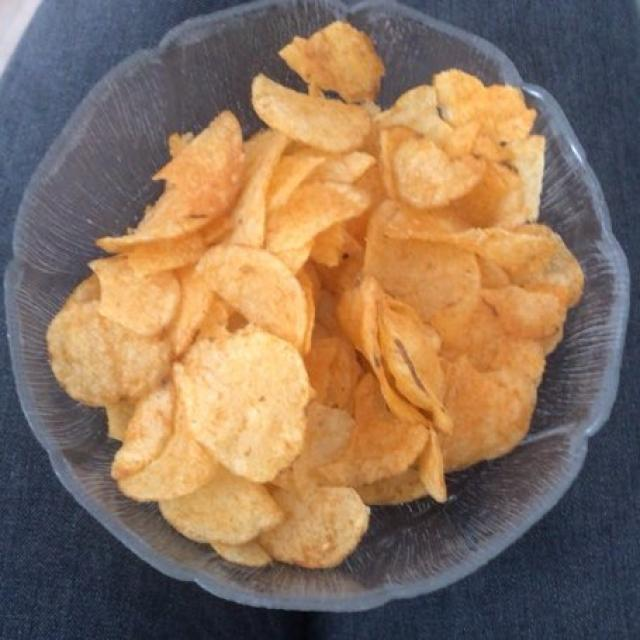paprika-chips: (65, 25, 580, 559)
